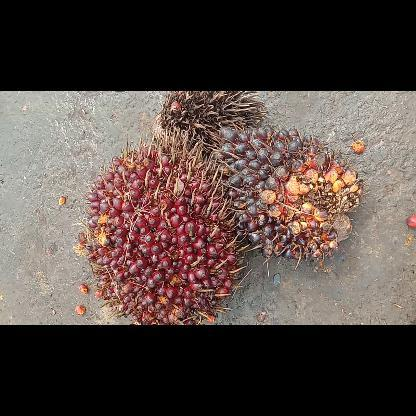Janjang kosong: (145, 90, 267, 154)
TBS masak: (81, 127, 248, 324)
TBS mentah: (216, 125, 362, 269)
